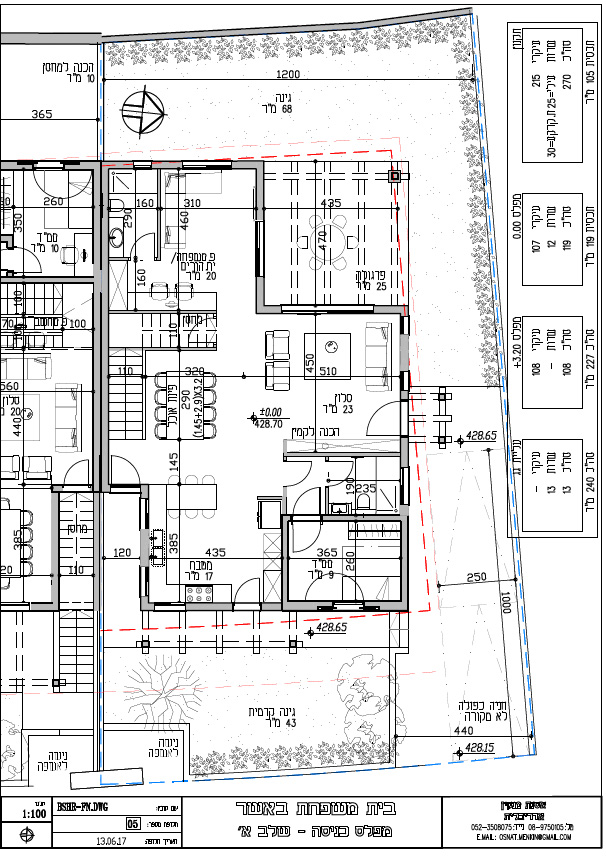door: (360, 398, 399, 438), (290, 523, 326, 552), (110, 453, 141, 483), (15, 245, 45, 275), (127, 228, 156, 258), (232, 573, 261, 602), (292, 487, 324, 512), (329, 458, 355, 488), (289, 457, 314, 488), (61, 458, 91, 483)
wall: (255, 160, 264, 219), (283, 600, 317, 610), (186, 602, 232, 609), (374, 304, 408, 313), (256, 276, 264, 313), (233, 160, 264, 168), (256, 305, 281, 313)
